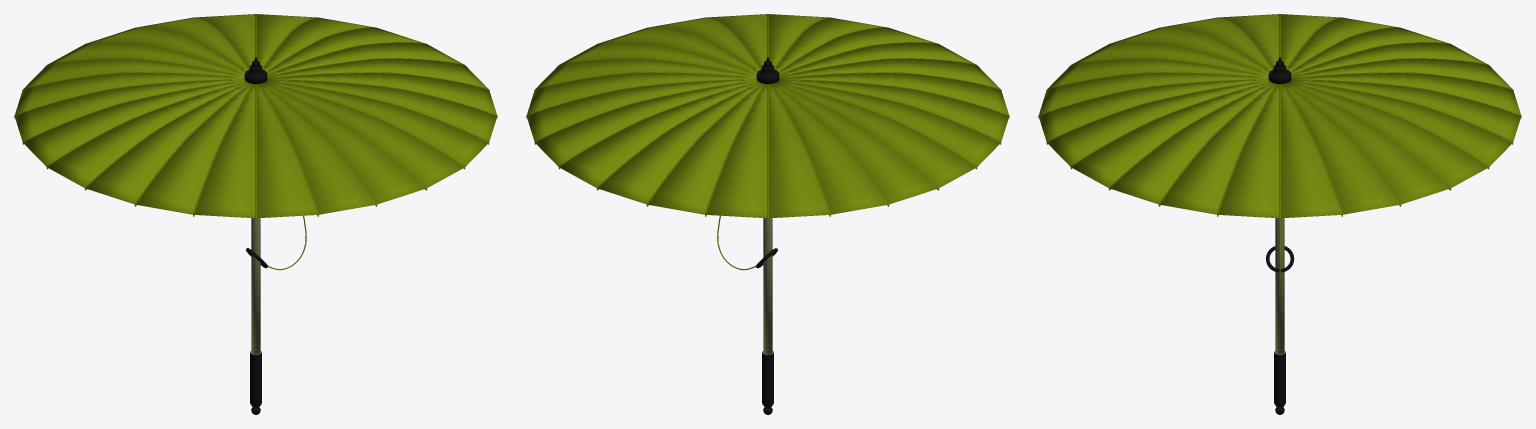
The model's file is pathaneumbrella.dae.
3 views of the same model, side by side, from view 1: azimuth 30°, elevation 25°; view 2: azimuth 150°, elevation 25°; view 3: azimuth 270°, elevation 25° (orthographic).
Parts seen in each view (by area): view 1: g rope, g Bamboo, g Lather; view 2: g rope, g Bamboo, g Lather; view 3: g rope, g Lather, g Bamboo.
Part boxes in pixels (left/top/right/bottom): g rope: left=14, top=14, right=497, bottom=270; g Bamboo: left=14, top=116, right=497, bottom=354; g Lather: left=244, top=57, right=267, bottom=414; g rope: left=526, top=14, right=1009, bottom=270; g Bamboo: left=526, top=116, right=1009, bottom=354; g Lather: left=756, top=57, right=779, bottom=414; g rope: left=1038, top=14, right=1521, bottom=292; g Lather: left=1266, top=57, right=1294, bottom=414; g Bamboo: left=1038, top=116, right=1521, bottom=354.
Bounding box in the file's own units: 2 × 1.63 × 2.
